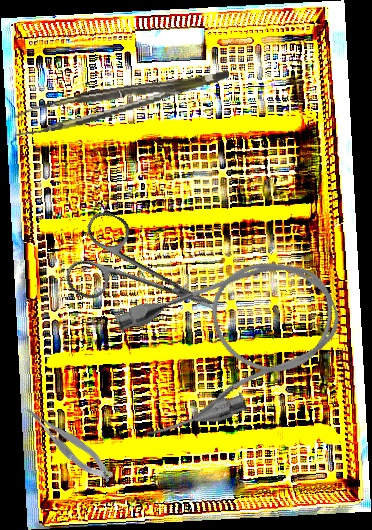Cannula: (101, 236, 359, 449)
Iris Scissors: (59, 206, 236, 351)
Micro Scissor: (20, 394, 117, 491)
Tissue Forceps: (9, 70, 234, 137)
